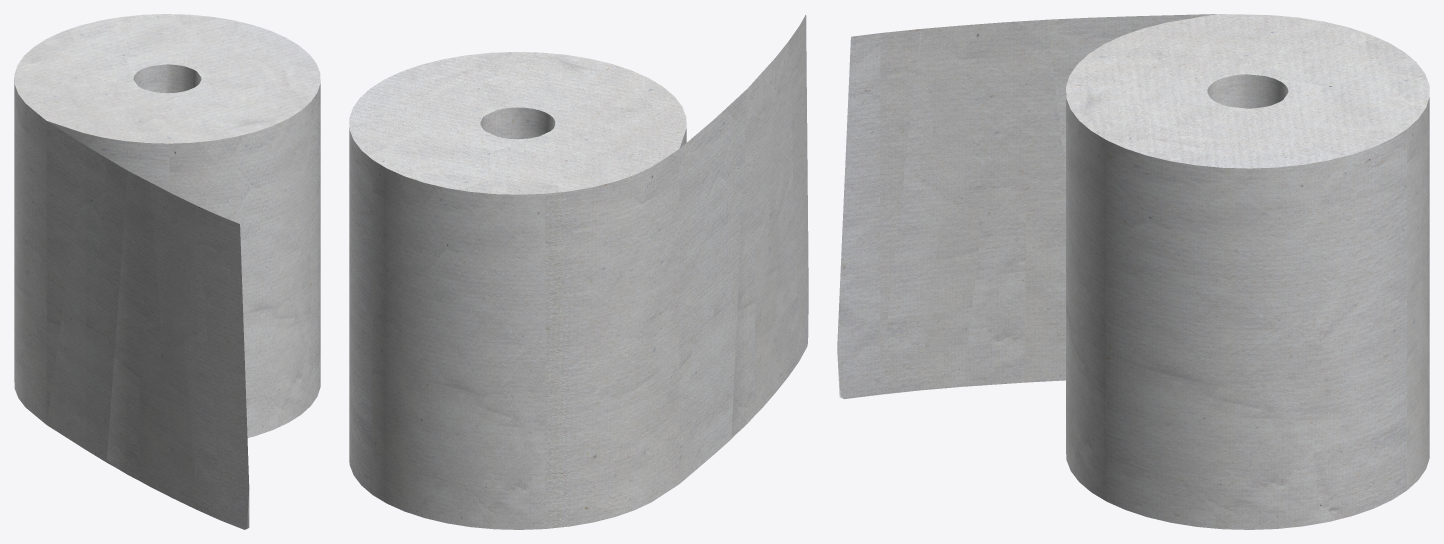
The model's file is Paper wc.fbx.
The picture shows the model from 3 angles, left to right: view 1: azimuth 30°, elevation 25°; view 2: azimuth 150°, elevation 25°; view 3: azimuth 270°, elevation 25°; orthographic projection. The views are drawn at different scales.
Visible parts, largest first — view 1: Paper wc; view 2: Paper wc; view 3: Paper wc.
Boxes of the visible parts, x1,y1,x2,y2 form: Paper wc: [14, 14, 320, 529]; Paper wc: [349, 15, 808, 529]; Paper wc: [837, 14, 1429, 529].
Size of the model in its own units: 12.98 by 14.15 by 21.03.
1 material, 1 textured.
